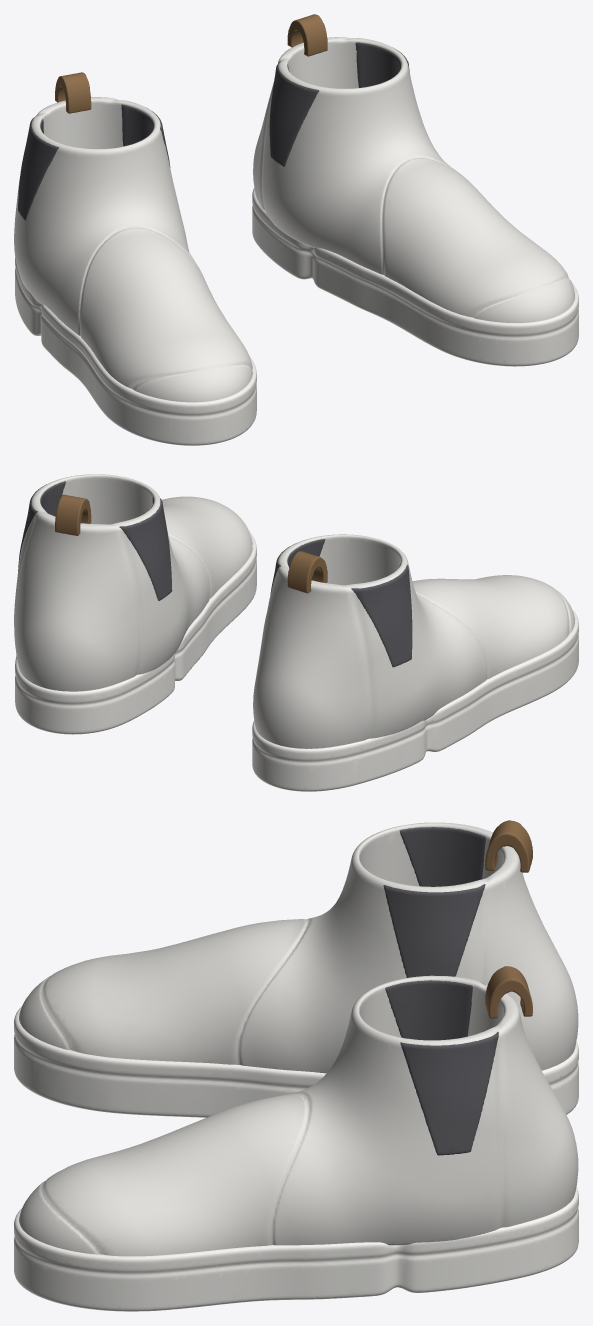
The model's file is 10_botas_chelsea.glb.
3 renders of one model, top to bottom at view 1: azimuth 30°, elevation 25°; view 2: azimuth 150°, elevation 25°; view 3: azimuth 270°, elevation 25°, orthographic. The views are drawn at different scales.
Visible parts, largest first — view 1: body, sole, secondary, trim; view 2: body, sole, secondary, trim; view 3: body, sole, secondary, trim.
Boxes of the visible parts, x1=… form: body: x1=14, y1=37, x2=574, y2=402; sole: x1=15, y1=188, x2=578, y2=445; secondary: x1=18, y1=42, x2=409, y2=220; trim: x1=55, y1=14, x2=327, y2=113; body: x1=14, y1=474, x2=574, y2=748; sole: x1=15, y1=532, x2=578, y2=791; secondary: x1=18, y1=481, x2=412, y2=667; trim: x1=55, y1=494, x2=327, y2=593; body: x1=19, y1=822, x2=578, y2=1256; sole: x1=14, y1=1006, x2=578, y2=1311; secondary: x1=383, y1=827, x2=498, y2=1155; trim: x1=485, y1=820, x2=532, y2=1018.
Size of the model in its own units: 0.3716 by 0.17 by 0.3179.
